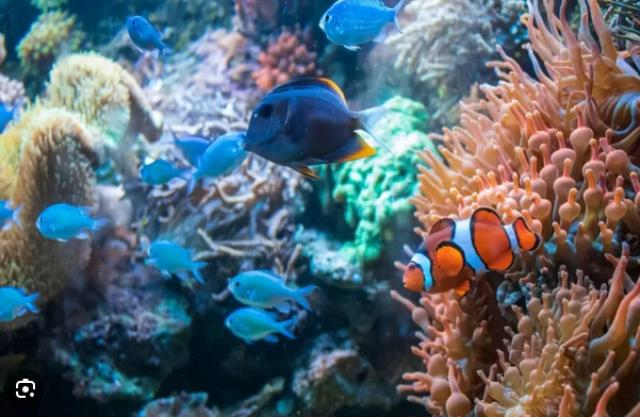Mulut: (398, 266, 420, 296)
Sirip Anal: (486, 247, 516, 281)
Sirip Dada: (429, 238, 467, 282)
Sirip Ekor: (512, 214, 548, 256)
Sirip Perut: (452, 279, 478, 305)
Sirip Punggung: (418, 200, 506, 238)
